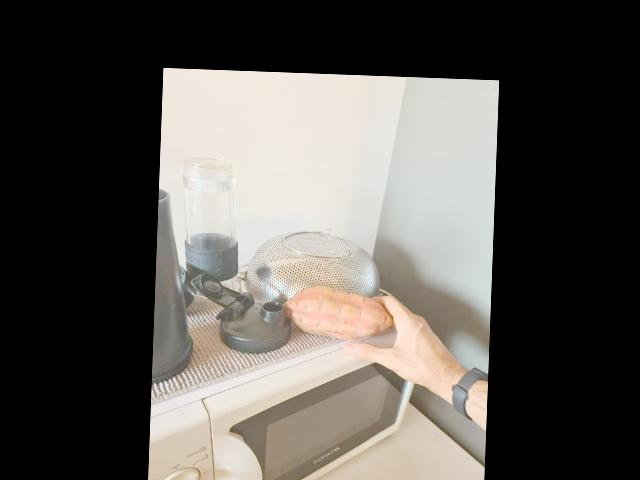sweet_potato: (282, 282, 395, 340)
